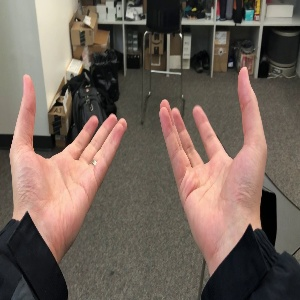hand: (9, 73, 127, 235), (159, 67, 267, 236)
